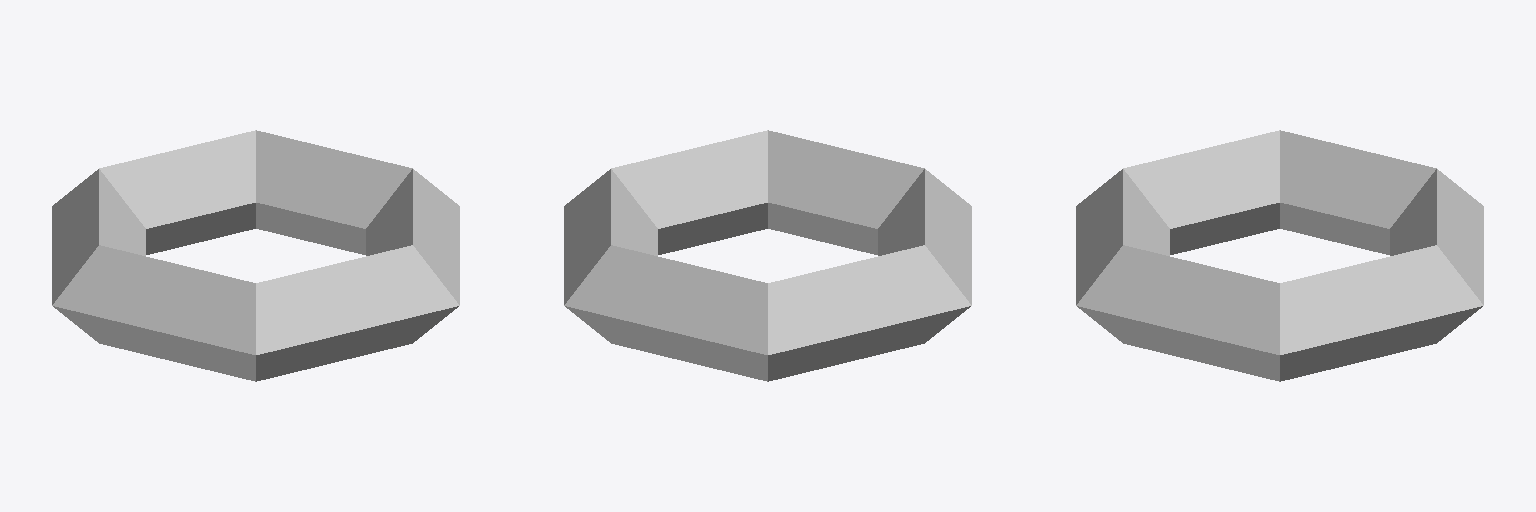
The model's file is explosion_7.obj.
3 views of the same model, side by side, from view 1: azimuth 30°, elevation 25°; view 2: azimuth 150°, elevation 25°; view 3: azimuth 270°, elevation 25° (orthographic).
Visible parts, largest first — view 1: Sphere; view 2: Sphere; view 3: Sphere.
Part boxes in pixels (bbox=[...]): Sphere: bbox=[52, 130, 459, 381]; Sphere: bbox=[564, 130, 971, 381]; Sphere: bbox=[1076, 130, 1483, 381].
Size of the model in its own units: 52 by 12 by 45.03.